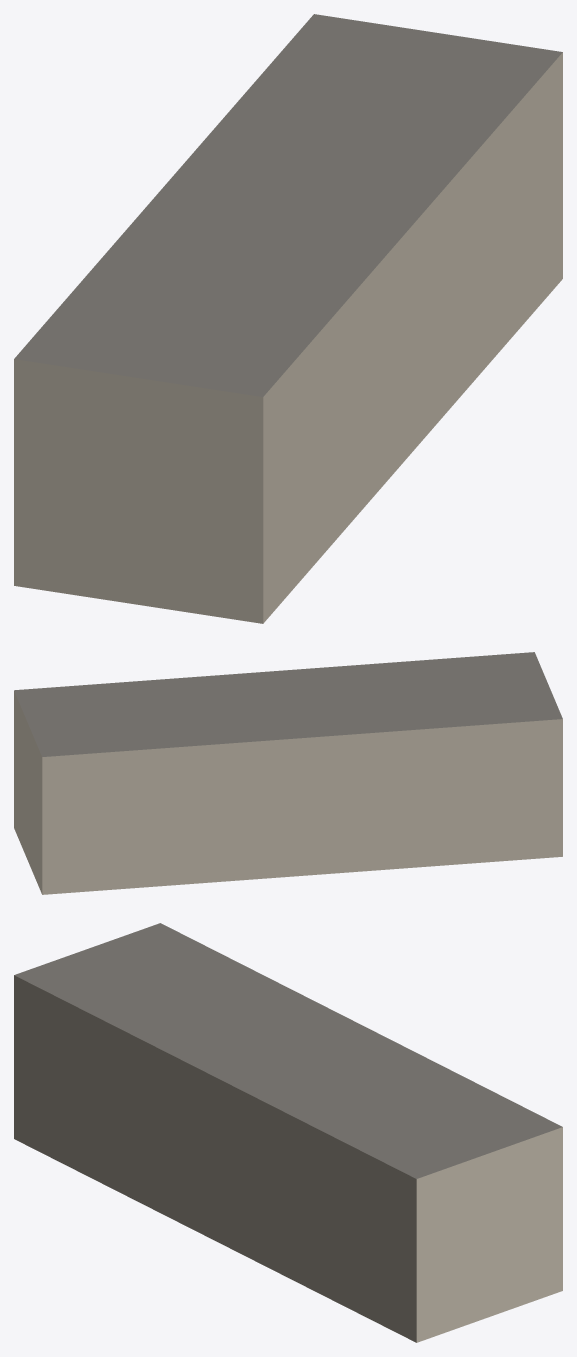
The picture shows the model from 3 angles, top to bottom: view 1: azimuth 30°, elevation 25°; view 2: azimuth 150°, elevation 25°; view 3: azimuth 270°, elevation 25°; orthographic projection. The views are drawn at different scales.
Visible parts, largest first — view 1: HP-w1201228815; view 2: HP-w1201228815; view 3: HP-w1201228815.
Part boxes in pixels (x1=…): HP-w1201228815: x1=14, y1=14, x2=562, y2=623; HP-w1201228815: x1=14, y1=652, x2=562, y2=894; HP-w1201228815: x1=14, y1=923, x2=562, y2=1342.
Size of the model in its own units: 60.33 by 18 by 54.66.
